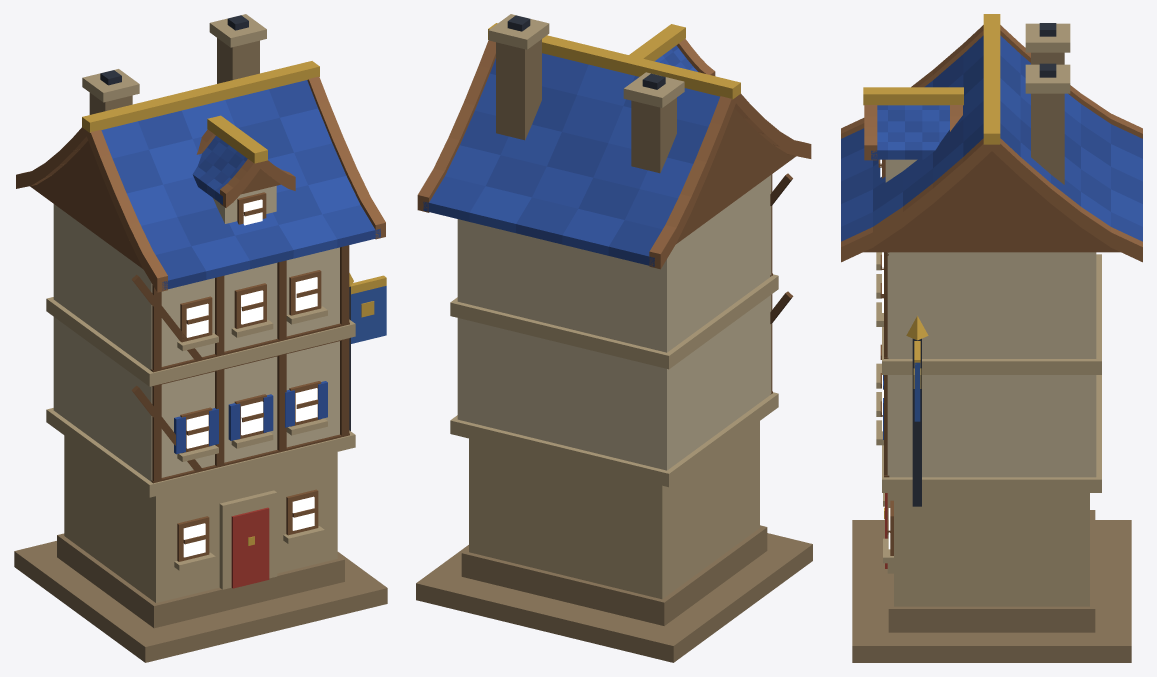
File: house_t4.glb
The picture shows the model from 3 angles, left to right: view 1: azimuth 30°, elevation 25°; view 2: azimuth 150°, elevation 25°; view 3: azimuth 270°, elevation 25°; orthographic projection. The views are drawn at different scales.
Visible parts, largest first — view 1: body, glow; view 2: body; view 3: body.
Part boxes in pixels (x1=…): body: x1=14, y1=14, x2=387, y2=662; glow: x1=183, y1=199, x2=317, y2=557; body: x1=416, y1=14, x2=812, y2=662; body: x1=841, y1=14, x2=1142, y2=662.
Bounding box in the file's own units: 1.79 × 3.35 × 1.62.
